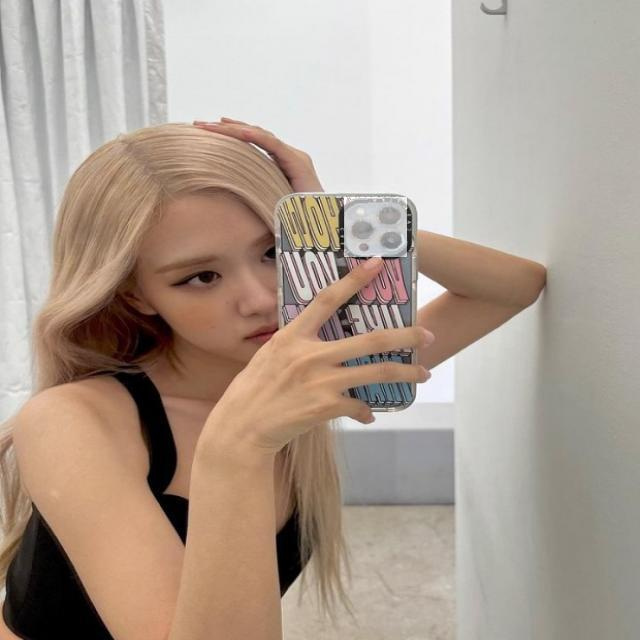lens: (344, 197, 407, 257)
phone: (277, 186, 423, 412)
